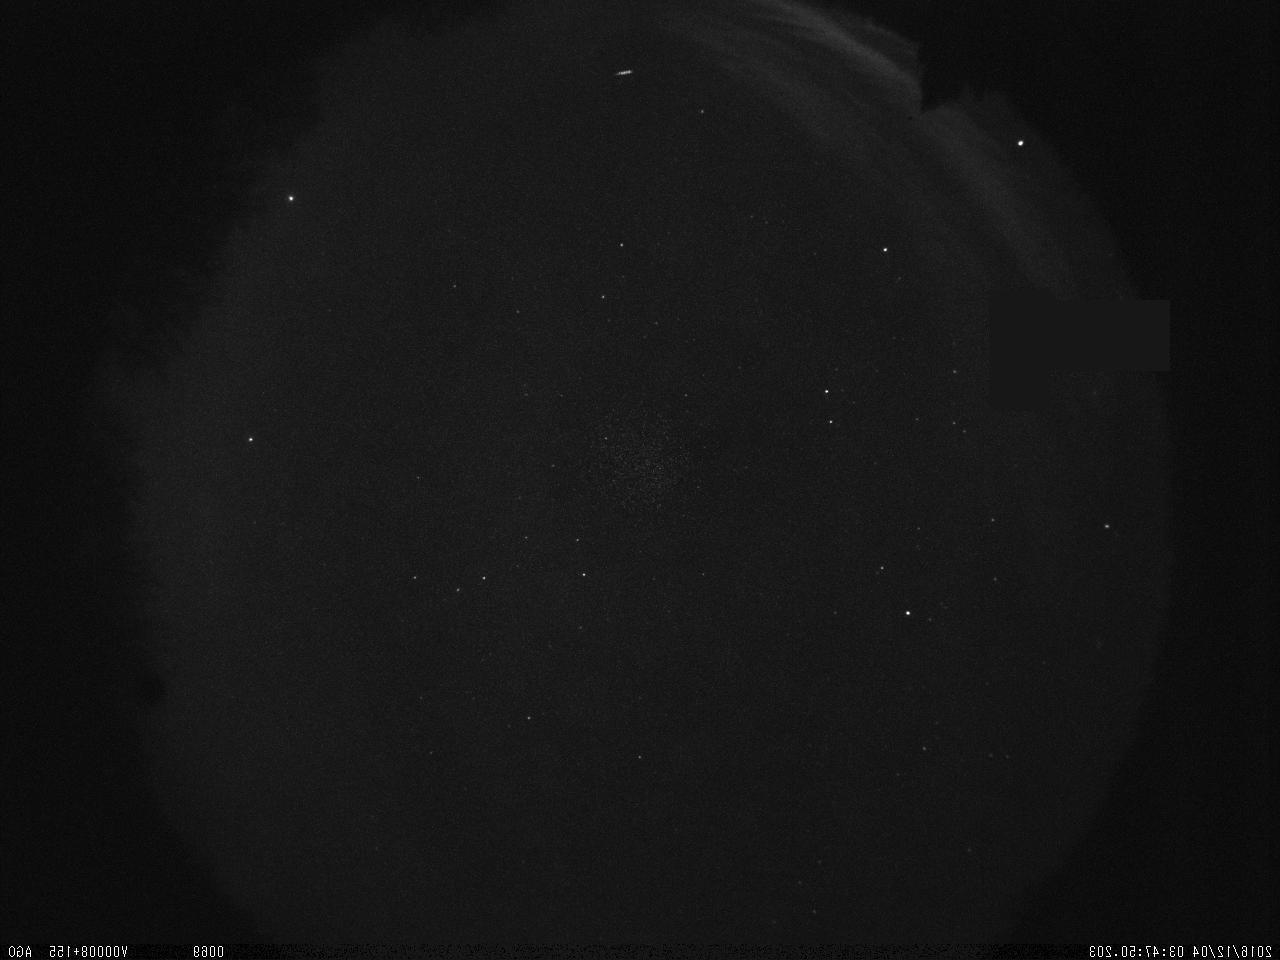meteor: (609, 59, 640, 92)
